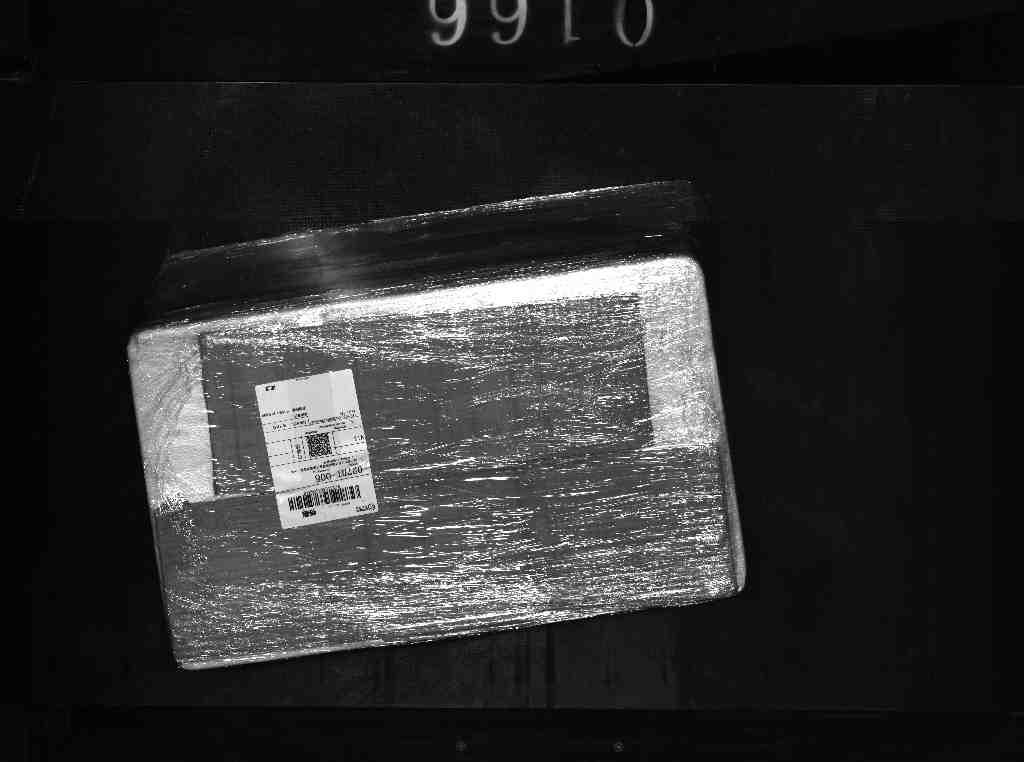box: (118, 183, 748, 668)
